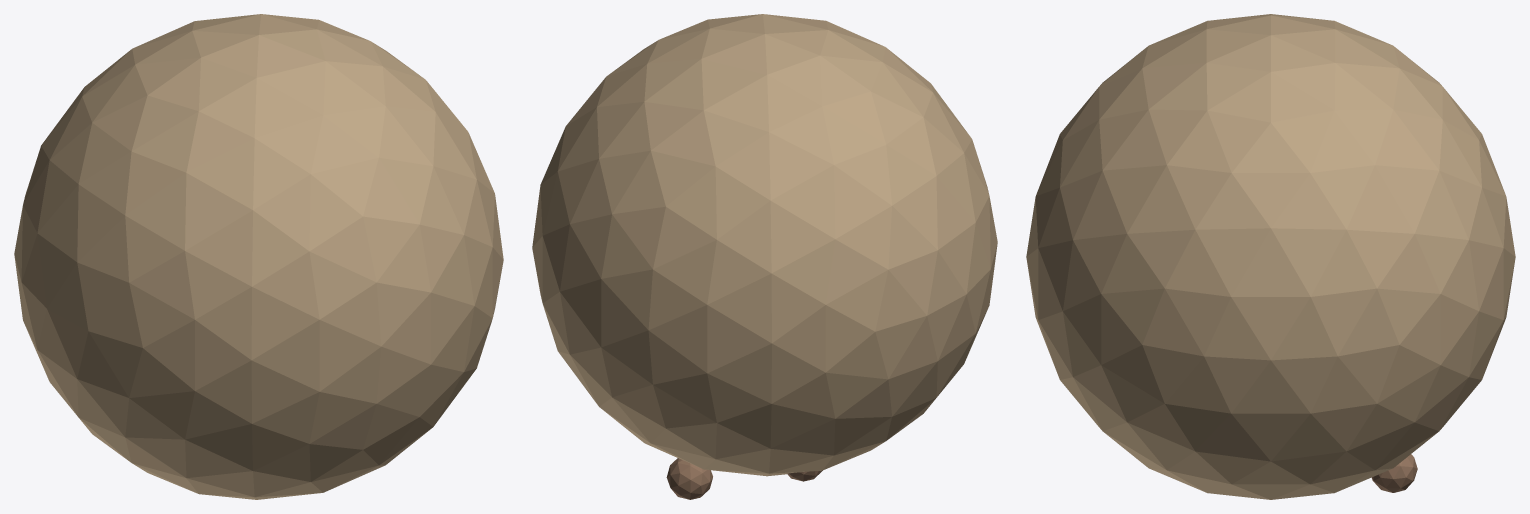
Rendered from potato.glb.
3 renders of one model, left to right at view 1: azimuth 30°, elevation 25°; view 2: azimuth 150°, elevation 25°; view 3: azimuth 270°, elevation 25°, orthographic. The views are drawn at different scales.
Parts seen in each view (by area): view 1: 00_potato; view 2: 00_potato, 03_potato_eye; view 3: 00_potato, 03_potato_eye.
Boxes of the visible parts, x1,y1,x2,y2 form: 00_potato: (14,14,503,499); 00_potato: (532,14,997,476); 03_potato_eye: (666,458,712,499); 00_potato: (1026,14,1515,499); 03_potato_eye: (1371,454,1417,492).
Bounding box in the file's own units: 0.24 × 0.242 × 0.24.
